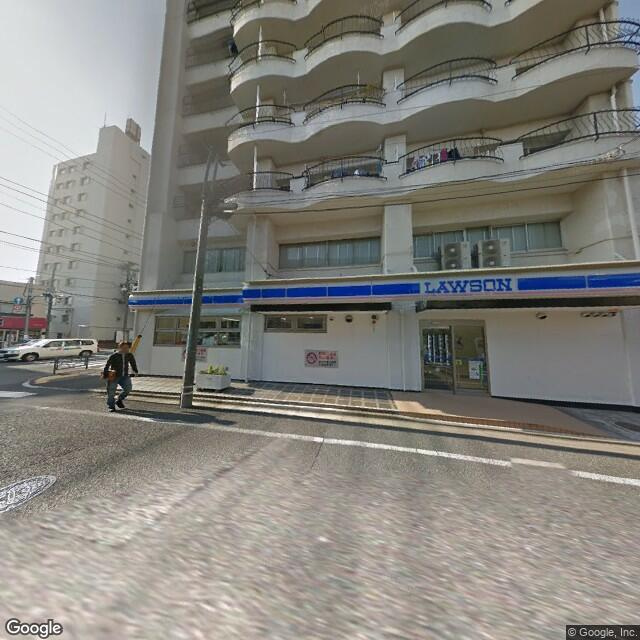lawson: (242, 262, 637, 310)
